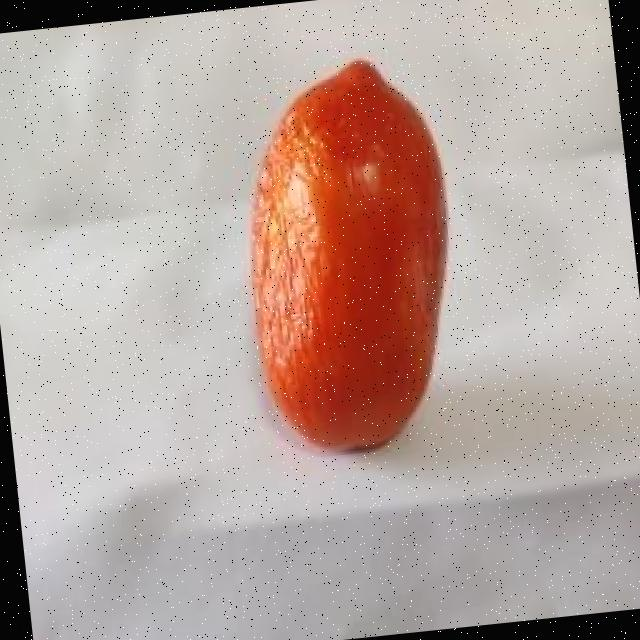overripe: (223, 48, 476, 466)
